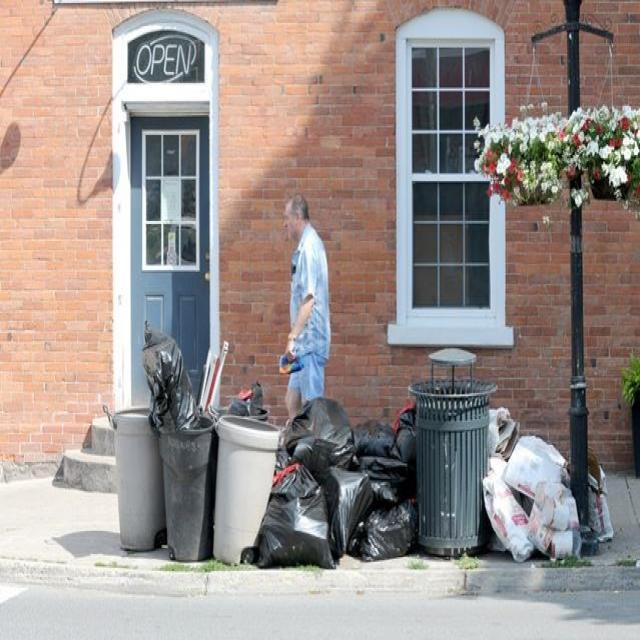plastic_bag: (261, 461, 333, 566), (288, 391, 351, 463), (333, 454, 376, 549), (367, 486, 415, 564)
